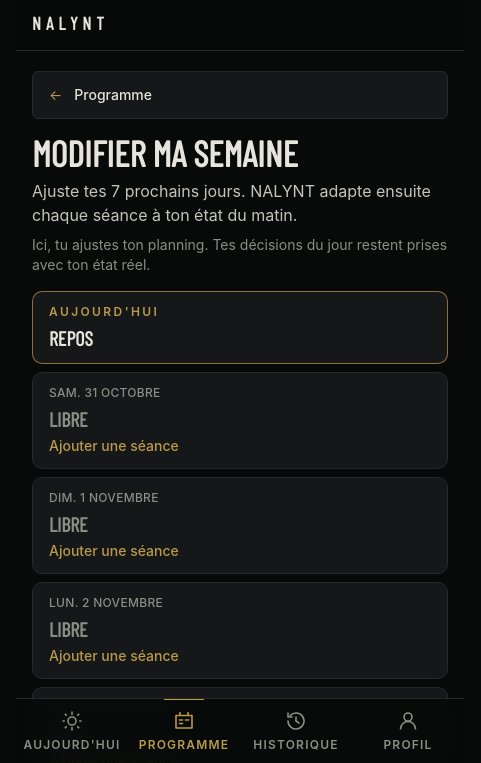
Test: PlanPage — U, V: canonical persisted state ownership › V: a successful delete clears the page's canonical row to Libre and collapses the editor
Click the button "Aujourd'hui Repos" at point(104, 312), box left=33, top=292, right=447, bottom=363
(page scrolled)
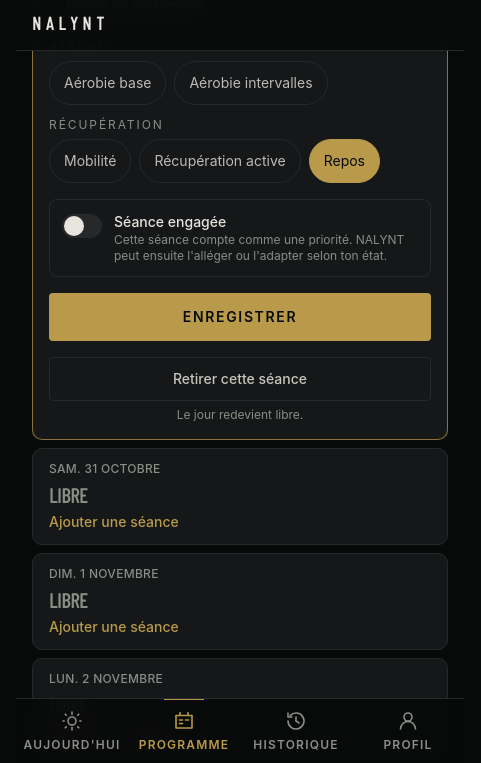
Click the button "Retirer cette séance" at point(240, 379), box left=49, top=357, right=431, bottom=401
(page scrolled)
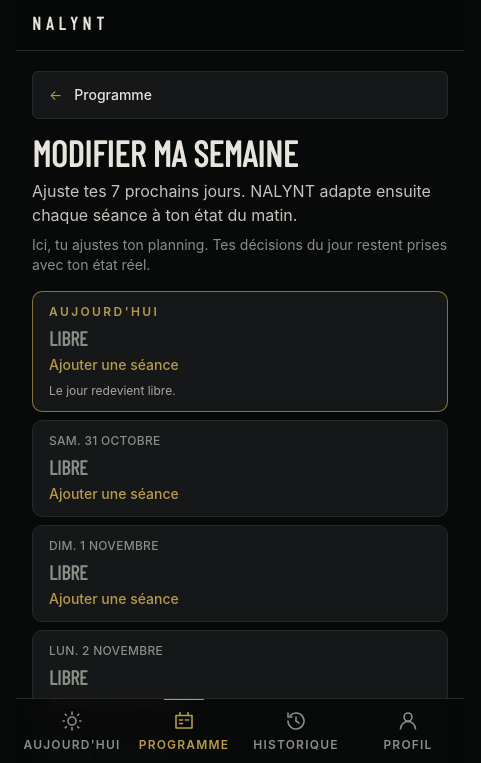
Result: the button "Aujourd'hui" shows "Libre" at left=33, top=292, right=447, bottom=411
Result: the button "Retirer cette séance" is gone
